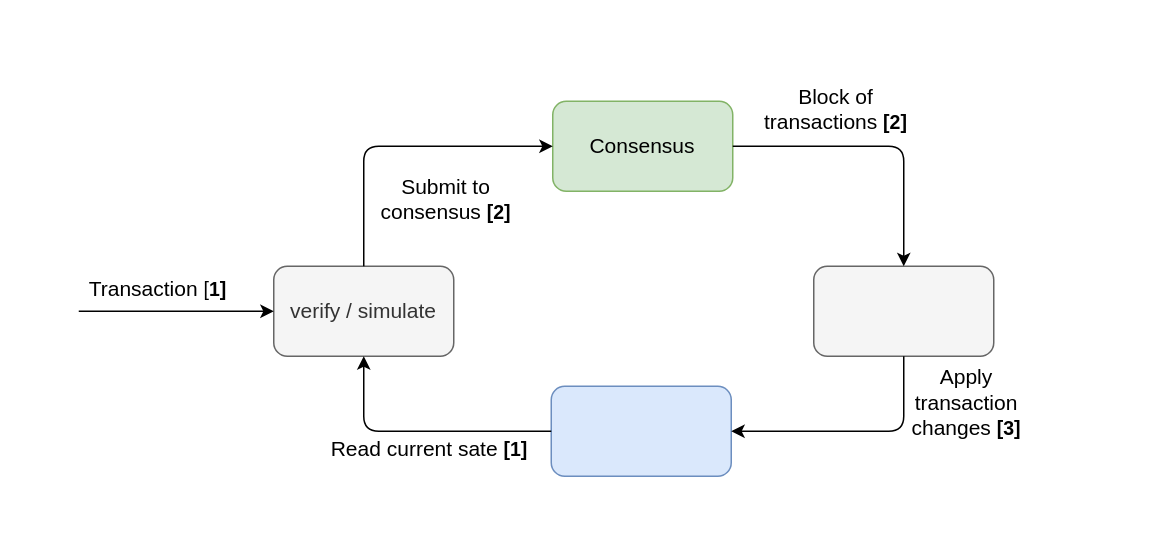
This 1154x546 diagram has some shape labels left out. Each missing label, with the centre of its shape:
State: [640,430]
verify / execute: [903,310]
